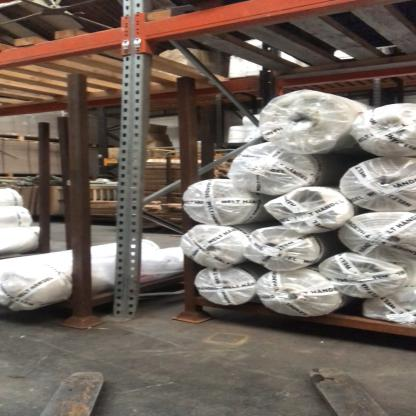vertical_damage: (105, 284, 151, 327)
